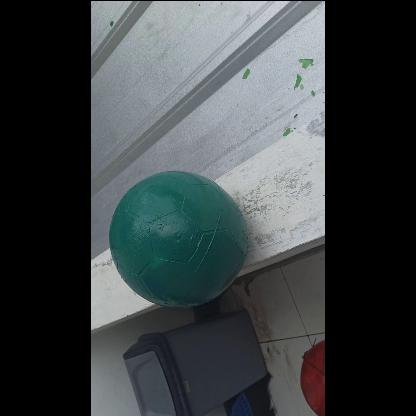green_ball: (108, 168, 247, 308)
